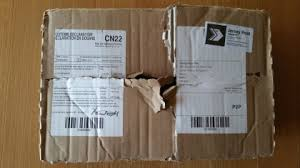damaged package: (102, 64, 194, 121)
